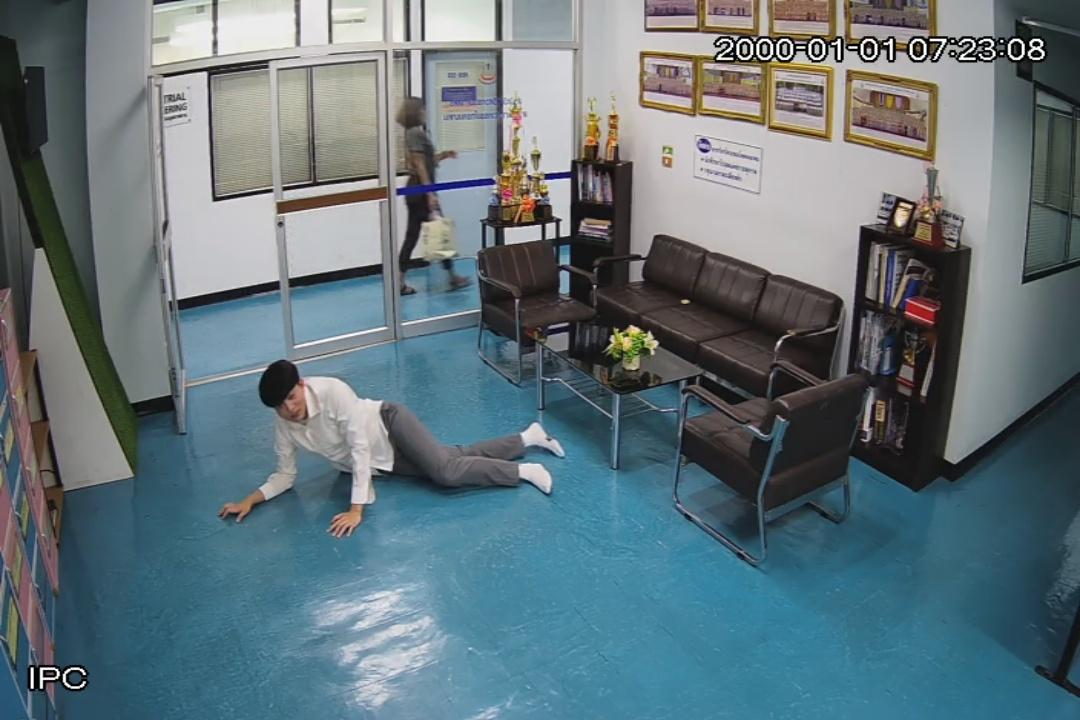fall: (220, 359, 569, 532)
normal: (388, 92, 475, 297)
